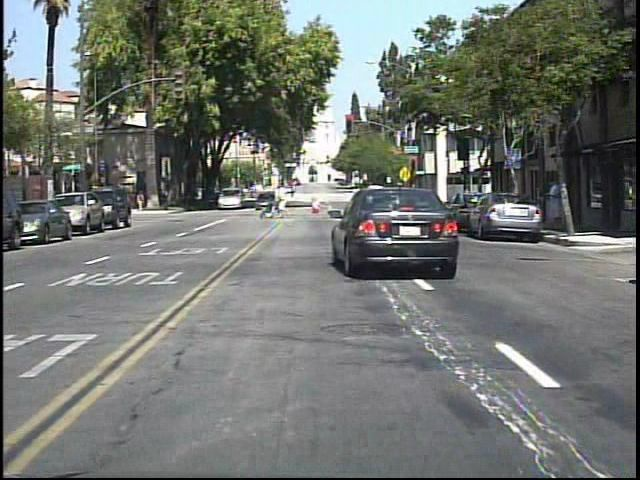person: (541, 174, 562, 233), (276, 182, 293, 220), (137, 189, 146, 213)
